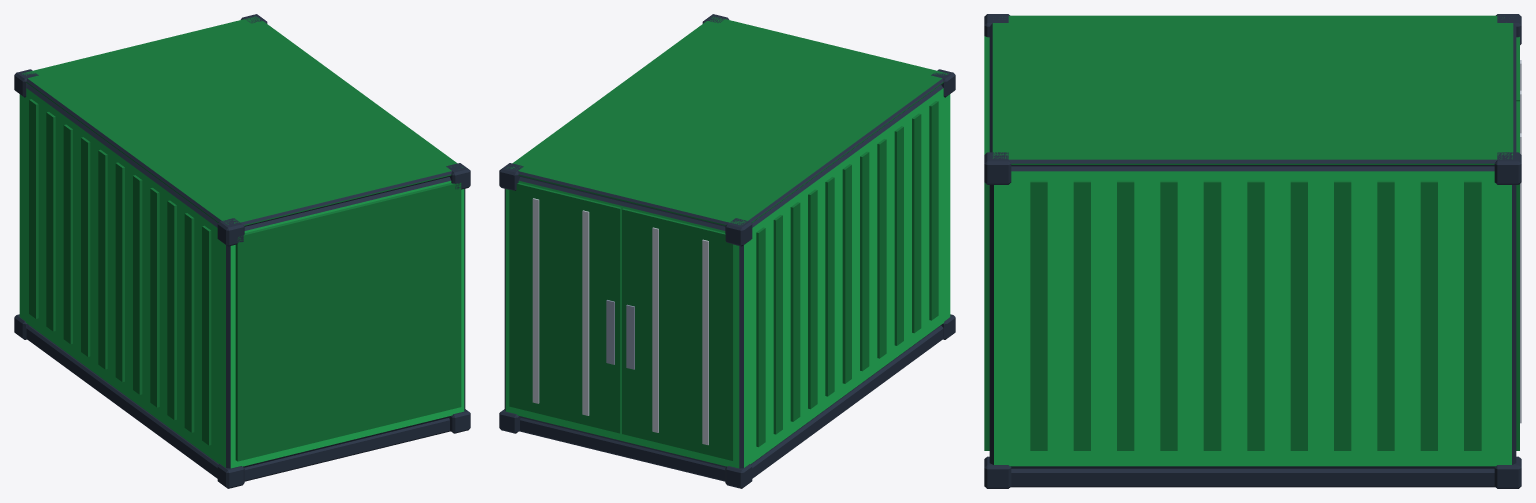
File: container_12ft.glb
The picture shows the model from 3 angles, left to right: view 1: azimuth 30°, elevation 25°; view 2: azimuth 150°, elevation 25°; view 3: azimuth 270°, elevation 25°; orthographic projection. The views are drawn at different scales.
Parts seen in each view (by area): view 1: container_12ft; view 2: container_12ft; view 3: container_12ft.
Boxes of the visible parts, box(x1,y1,x2,y2) form: container_12ft: box(14, 14, 470, 488); container_12ft: box(499, 14, 955, 488); container_12ft: box(984, 14, 1521, 488).
Size of the model in its own units: 2.45 by 2.5 by 3.71.
